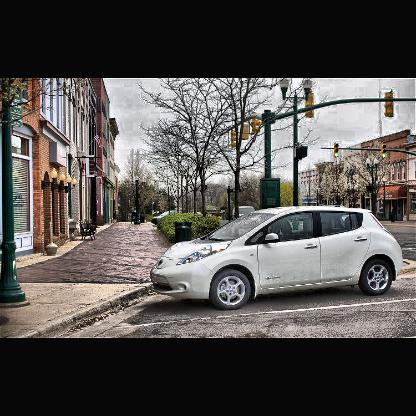Nissan Leaf Hatchback 2012: (151, 204, 404, 308)
